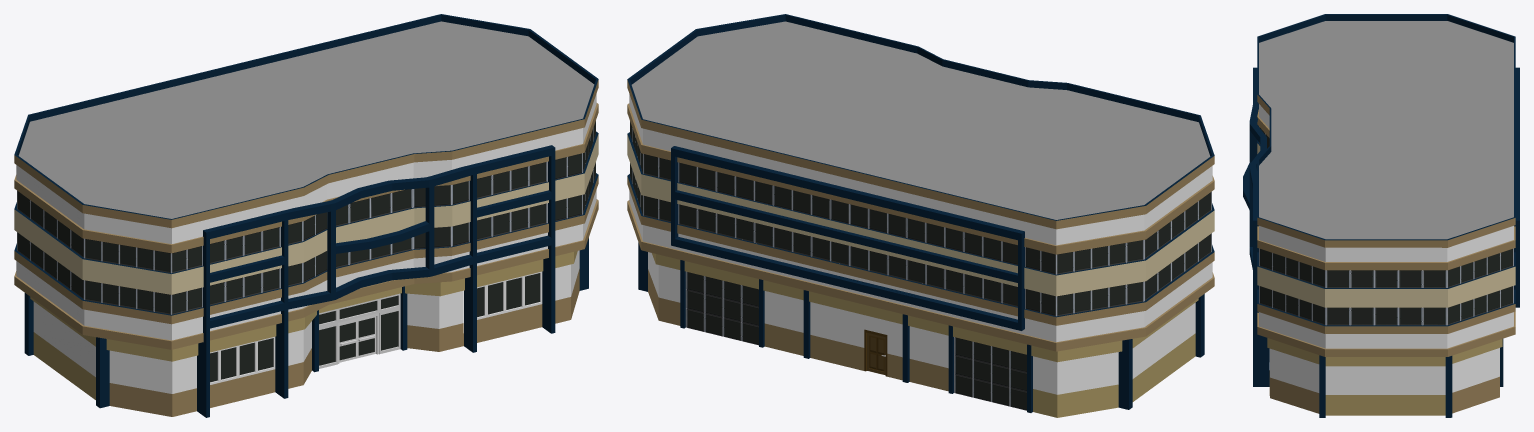
3 views of the same model, side by side, from view 1: azimuth 30°, elevation 25°; view 2: azimuth 150°, elevation 25°; view 3: azimuth 270°, elevation 25° (orthographic). The views are drawn at different scales.
Visible parts, largest first — view 1: DC-04; view 2: DC-04; view 3: DC-04.
Part boxes in pixels (x1,y1,x2,y2): DC-04: (14, 14, 598, 417); DC-04: (627, 14, 1214, 417); DC-04: (1243, 14, 1519, 417).
Size of what is drawn, in the model's own units: 39 by 14.74 by 20.15.
